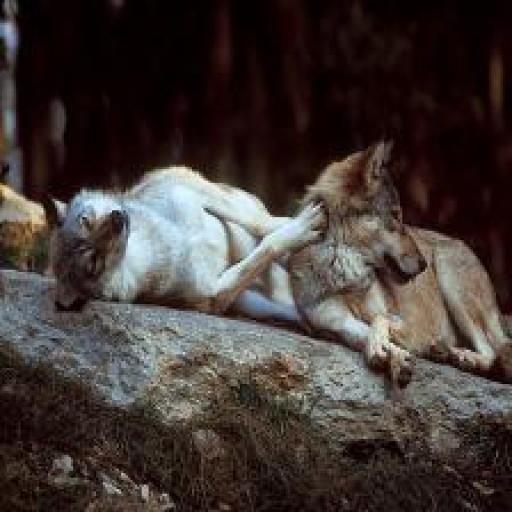wolf: (274, 100, 511, 476), (32, 133, 344, 361)
